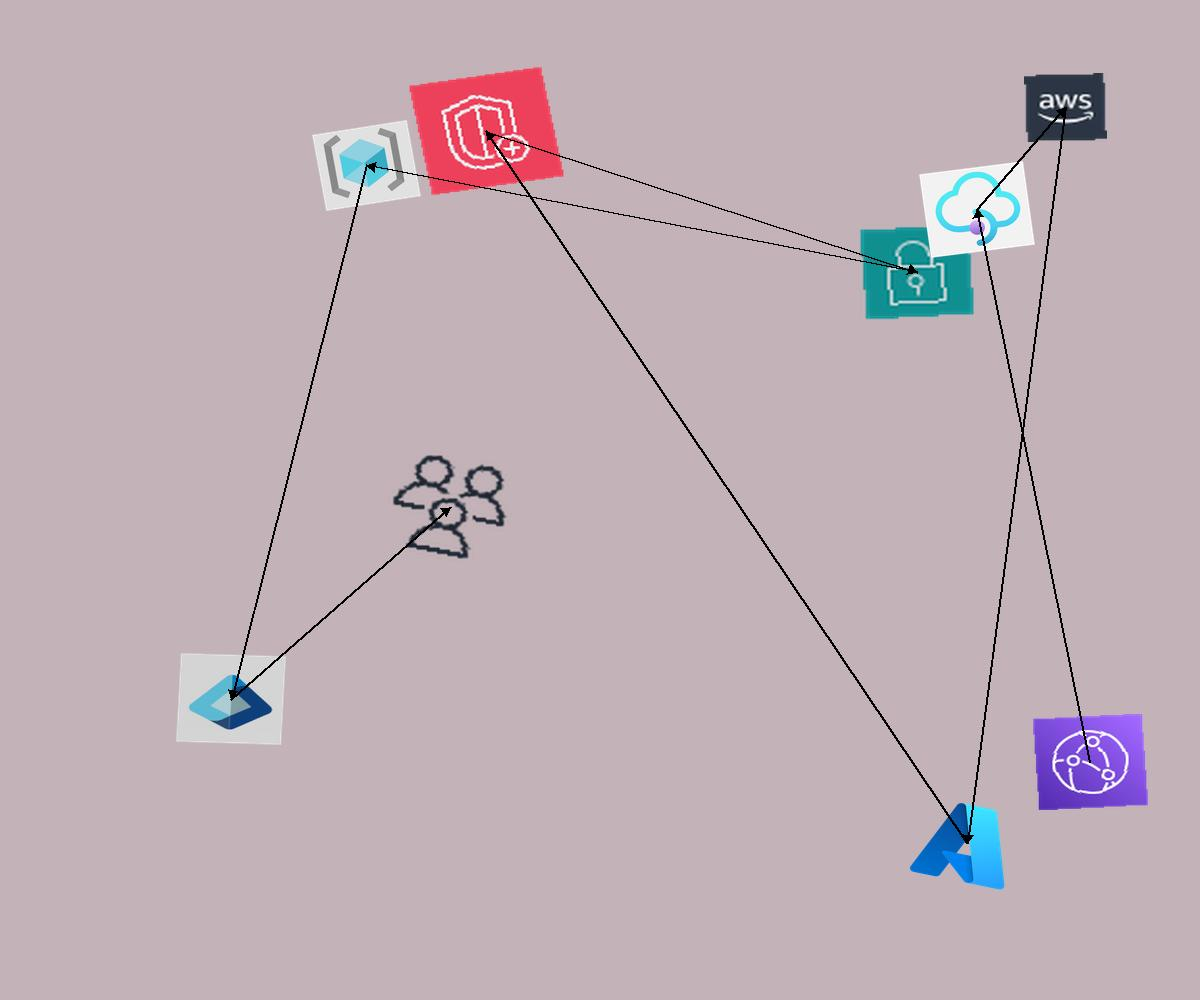AWS-Cloud-logo: (1024, 73, 1107, 142)
AWS-CloudFront: (1032, 713, 1149, 811)
AWS-Private-subnet: (858, 223, 976, 321)
AWS-Res_Users: (373, 443, 527, 571)
AWS-Shield: (408, 66, 565, 196)
Azure_api_gateway: (919, 161, 1035, 258)
Azure_microsoft_entra: (176, 653, 286, 745)
Azure_resource_group: (312, 120, 421, 211)
Azure_services: (903, 790, 1031, 897)
